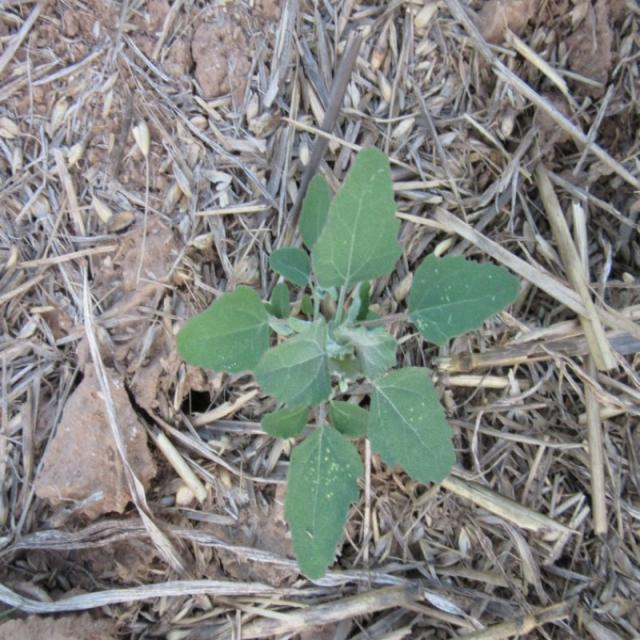ca: (173, 150, 524, 584)
